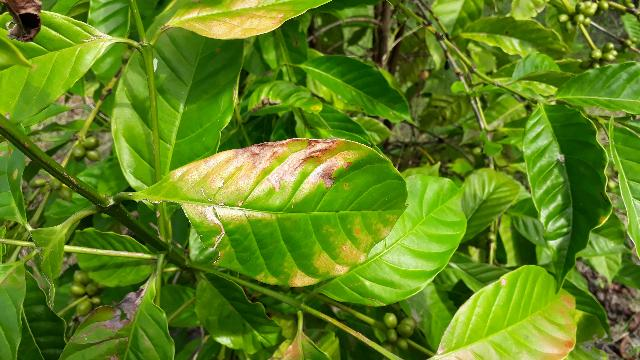red_spider_mite: (122, 140, 411, 285)
